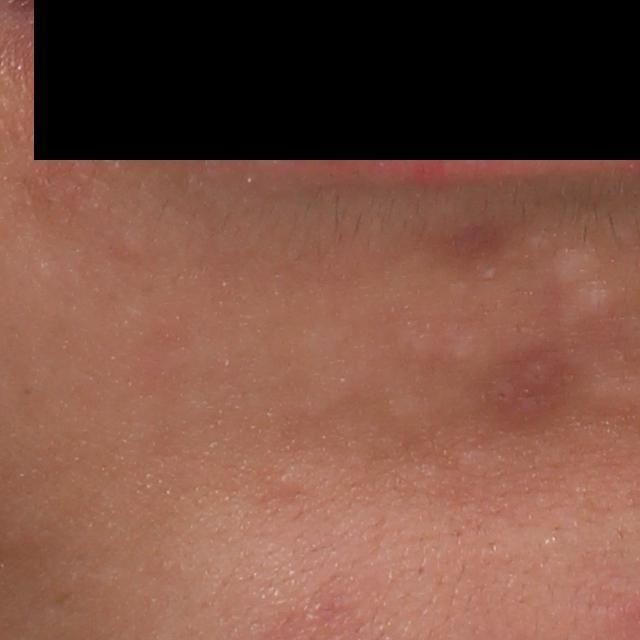hypertrophic_scar: (552, 240, 618, 328), (408, 330, 482, 365)
